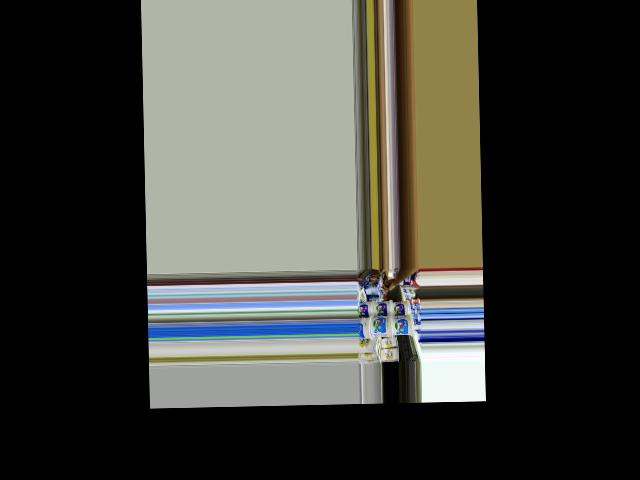cotage: (372, 301, 392, 318)
